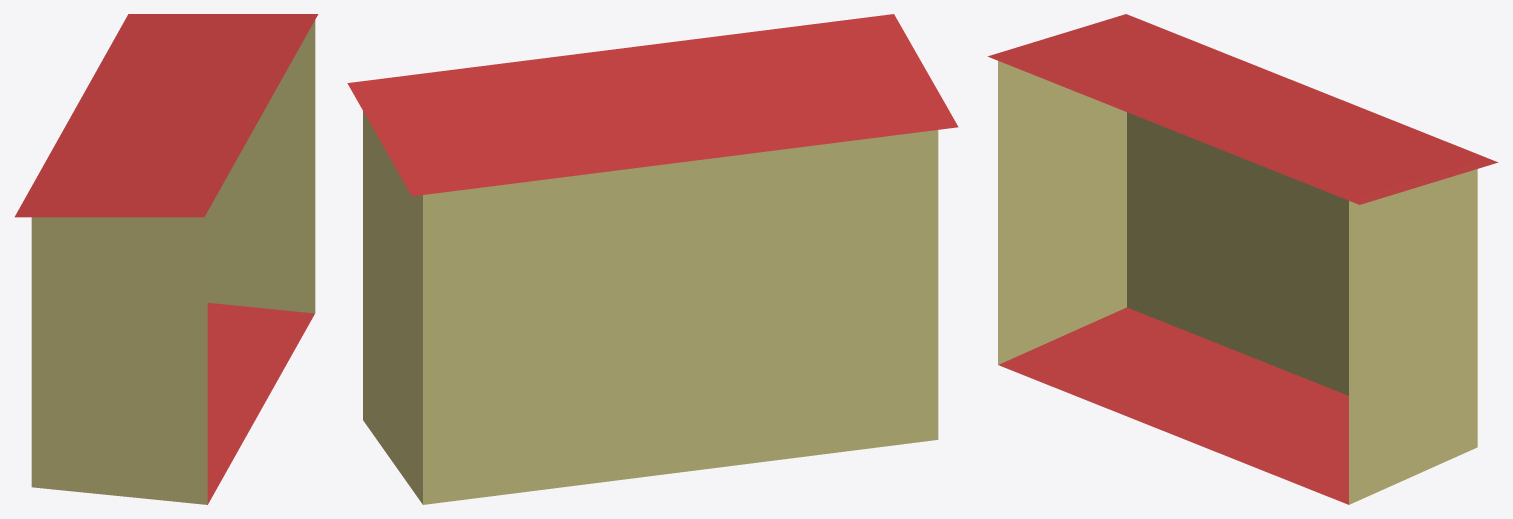
The picture shows the model from 3 angles, left to right: view 1: azimuth 30°, elevation 25°; view 2: azimuth 150°, elevation 25°; view 3: azimuth 270°, elevation 25°; orthographic projection. The views are drawn at different scales.
Size of the model in its own units: 8.46 by 8.68 by 5.7.
